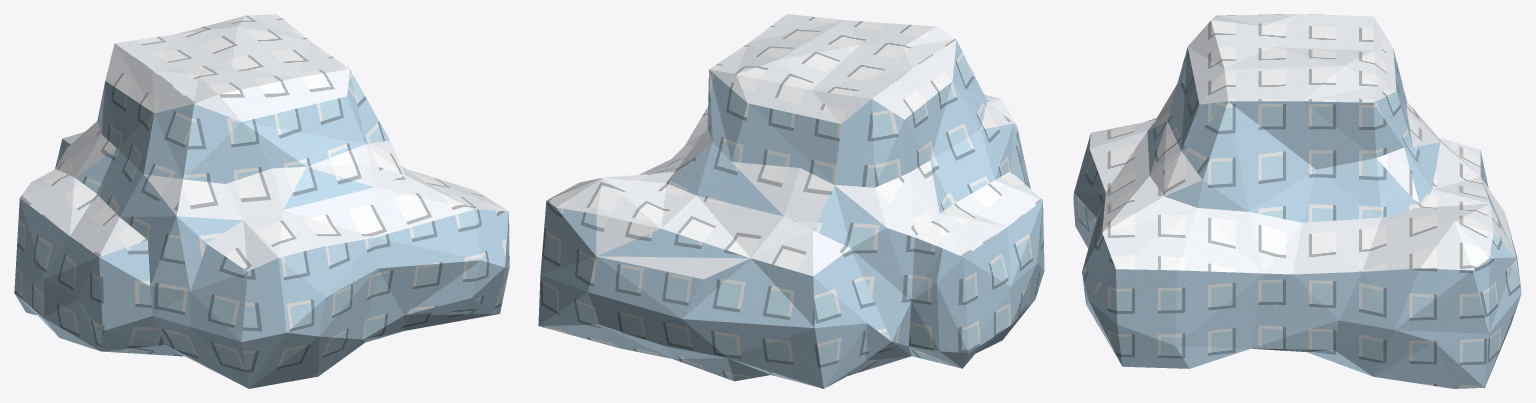
The model's file is IcebergSmall.glb.
3 views of the same model, side by side, from view 1: azimuth 30°, elevation 25°; view 2: azimuth 150°, elevation 25°; view 3: azimuth 270°, elevation 25° (orthographic). The views are drawn at different scales.
Visible parts, largest first — view 1: IcebergSmall_Rock, IcebergSmall_Top; view 2: IcebergSmall_Rock, IcebergSmall_Top; view 3: IcebergSmall_Rock, IcebergSmall_Top.
Boxes of the visible parts, x1=… form: IcebergSmall_Rock: x1=14, y1=69, x2=509, y2=388; IcebergSmall_Top: x1=20, y1=14, x2=508, y2=271; IcebergSmall_Rock: x1=538, y1=40, x2=1044, y2=388; IcebergSmall_Top: x1=546, y1=14, x2=1042, y2=279; IcebergSmall_Rock: x1=1073, y1=47, x2=1521, y2=388; IcebergSmall_Top: x1=1089, y1=14, x2=1515, y2=274.
Bounding box in the file's own units: 8.47 × 5.61 × 8.91.
Materials: 2 (2 with a texture image).
